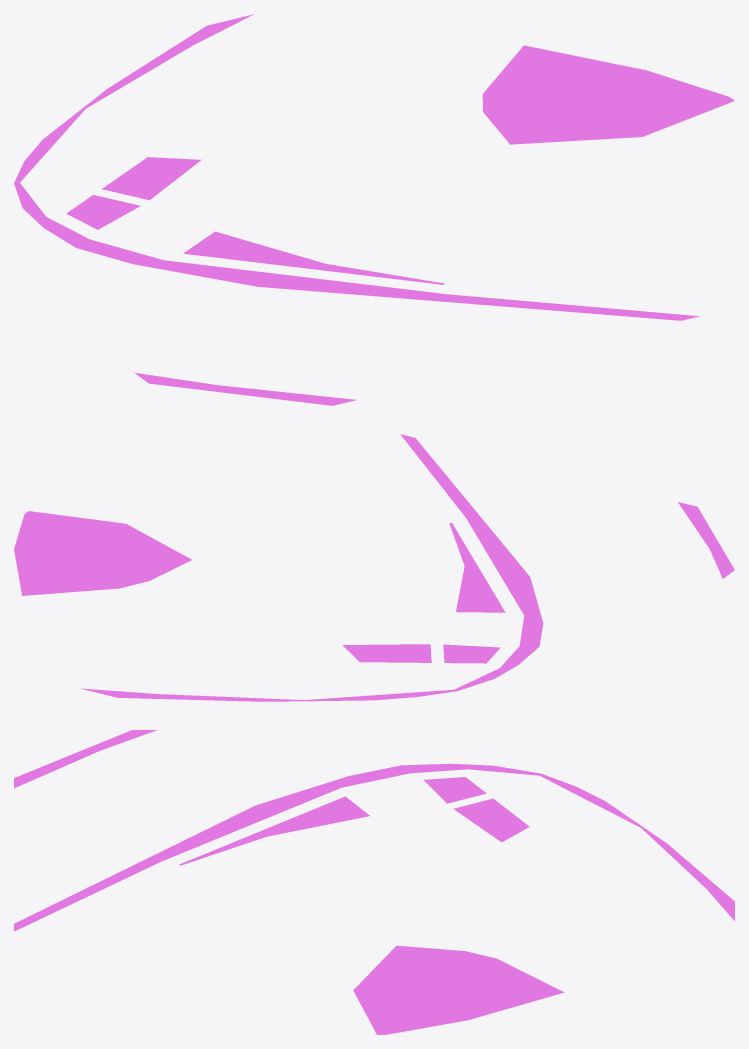
Rendered from parks_00215.obj.
The picture shows the model from 3 angles, top to bottom: view 1: azimuth 30°, elevation 25°; view 2: azimuth 150°, elevation 25°; view 3: azimuth 270°, elevation 25°; orthographic projection. The views are drawn at different scales.
Bounding box in the file's own units: 1500 × 0 × 1500.
